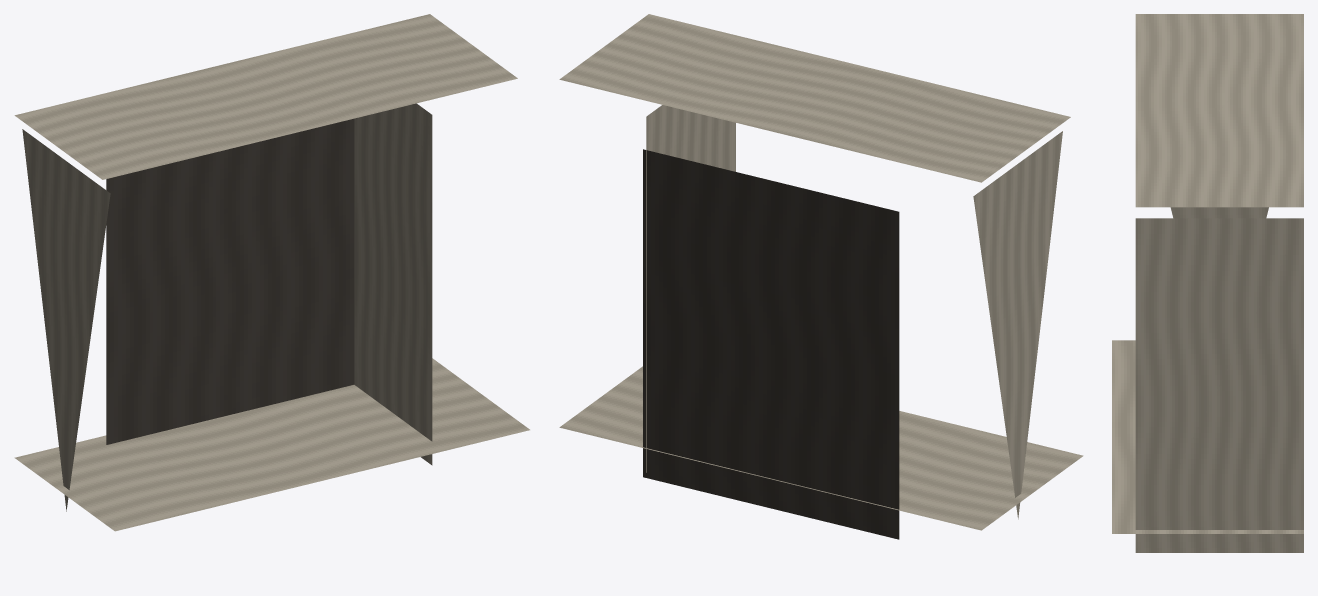
3 views of the same model, side by side, from view 1: azimuth 30°, elevation 25°; view 2: azimuth 150°, elevation 25°; view 3: azimuth 270°, elevation 25° (orthographic). The views are drawn at different scales.
Parts seen in each view (by area): view 1: Steinerner Hüttenherd; view 2: Steinerner Hüttenherd; view 3: Steinerner Hüttenherd.
Part boxes in pixels (bbox=[...]): Steinerner Hüttenherd: bbox=[14, 14, 529, 531]; Steinerner Hüttenherd: bbox=[559, 14, 1083, 539]; Steinerner Hüttenherd: bbox=[1112, 14, 1303, 552].
Size of the model in its own units: 1.55 by 1.4 by 0.65.
2 materials, 2 textured.
